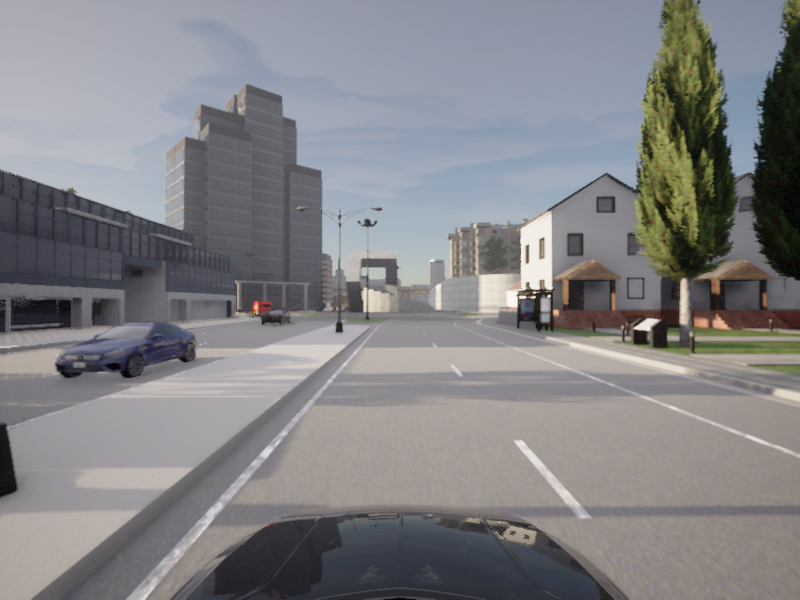vehicle: (42, 319, 205, 383), (257, 307, 292, 326)
